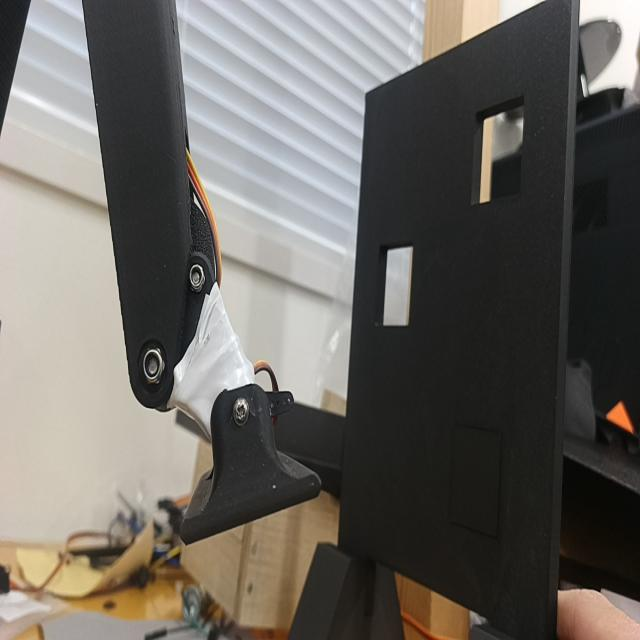Obstacle: (471, 92, 524, 212), (375, 241, 413, 332)
Wall: (338, 0, 578, 639)
